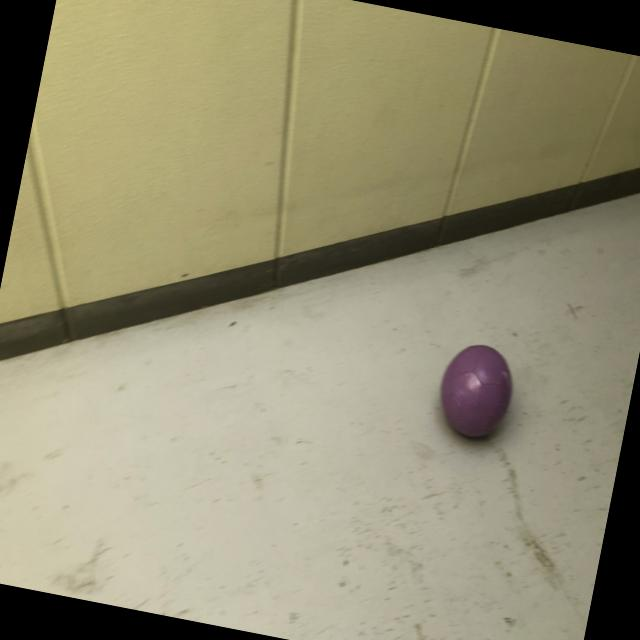purple_ball: (432, 336, 520, 444)
